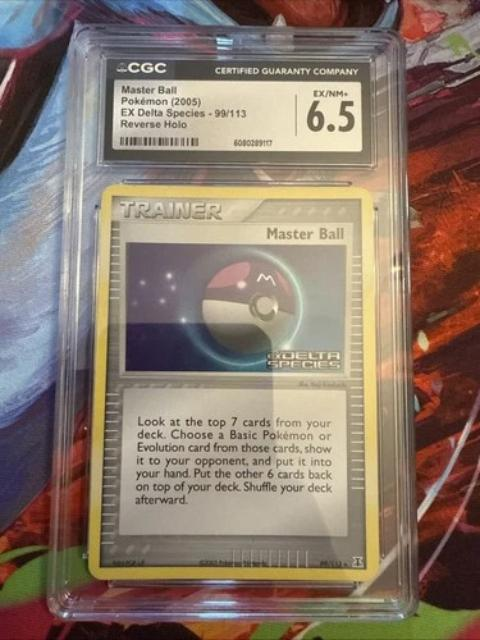Card: (83, 180, 382, 586)
Name: (257, 222, 353, 246)
